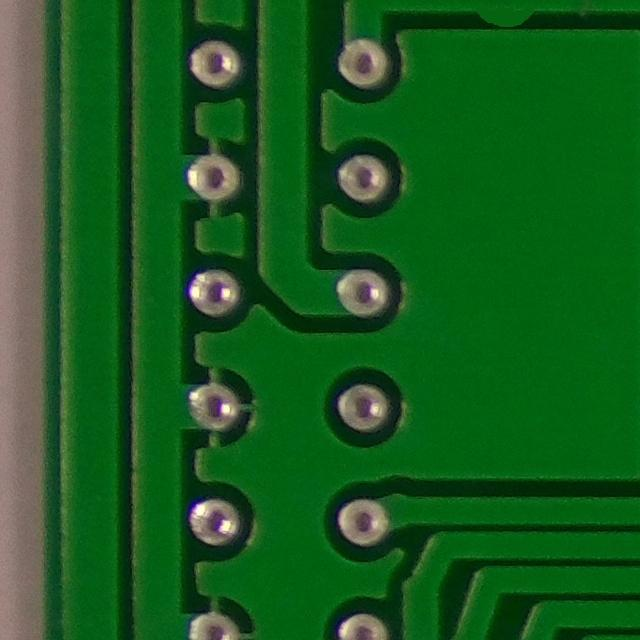spur: (461, 0, 548, 39)
